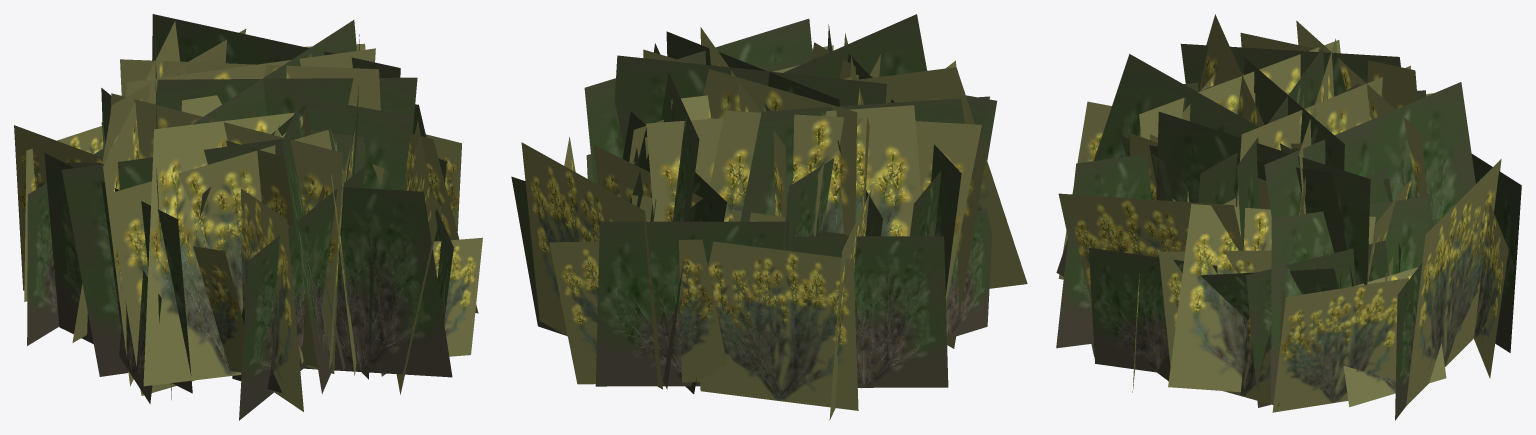
File: newgrass.fbx
3 views of the same model, side by side, from view 1: azimuth 30°, elevation 25°; view 2: azimuth 150°, elevation 25°; view 3: azimuth 270°, elevation 25° (orthographic). The views are drawn at different scales.
Visible parts, largest first — view 1: LOD0; view 2: LOD0; view 3: LOD0.
Part boxes in pixels (x1=…): LOD0: x1=14, y1=14, x2=482, y2=420; LOD0: x1=511, y1=14, x2=1027, y2=420; LOD0: x1=1056, y1=14, x2=1521, y2=420.
Size of what is drawn, in the model's own units: 3 by 2.02 by 3.1.
